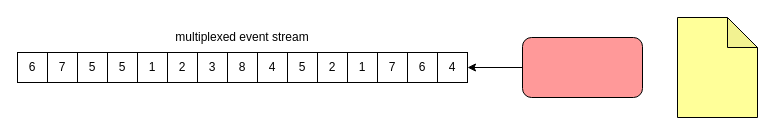
The diagram is 775 pixels wide and 135 high, and some of its shapes have lost their labels. The centre of each missing label's shape, as x and y in pixels:
"message sequence must be respected" belongs at [717,67].
"Producer 1 Live Odds" belongs at [582,67].
